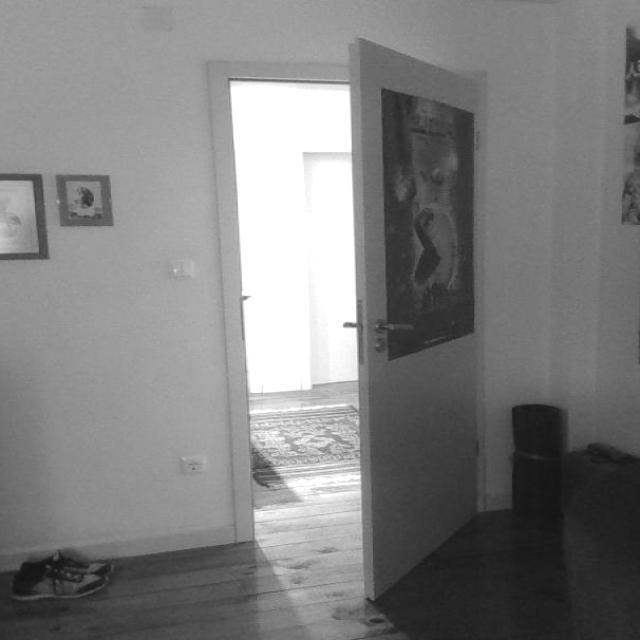door: (349, 36, 484, 601)
